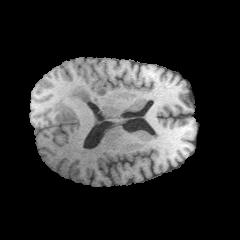glioma: (53, 86, 110, 124)
